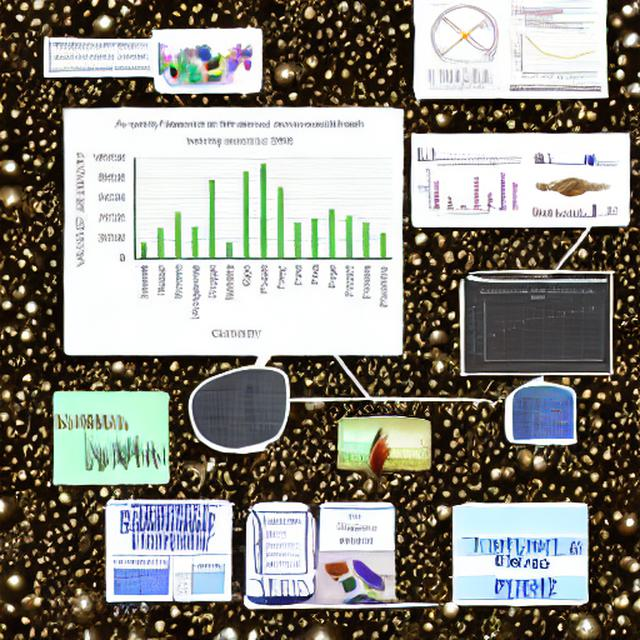Graph: (66, 110, 399, 345), (468, 287, 610, 373), (415, 162, 512, 219), (510, 26, 599, 83), (434, 59, 489, 95)
